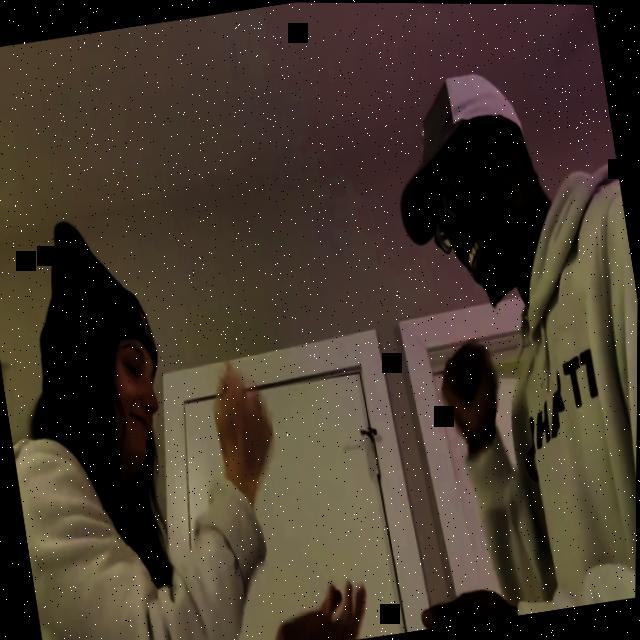Rock: (207, 360, 282, 489), (435, 334, 507, 442)
